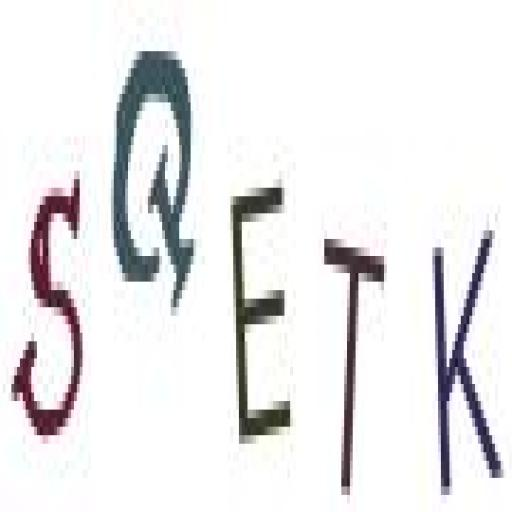E: (224, 153, 300, 478)
K: (430, 215, 508, 501)
Q: (107, 27, 204, 333)
S: (11, 158, 87, 454)
T: (318, 215, 388, 506)
